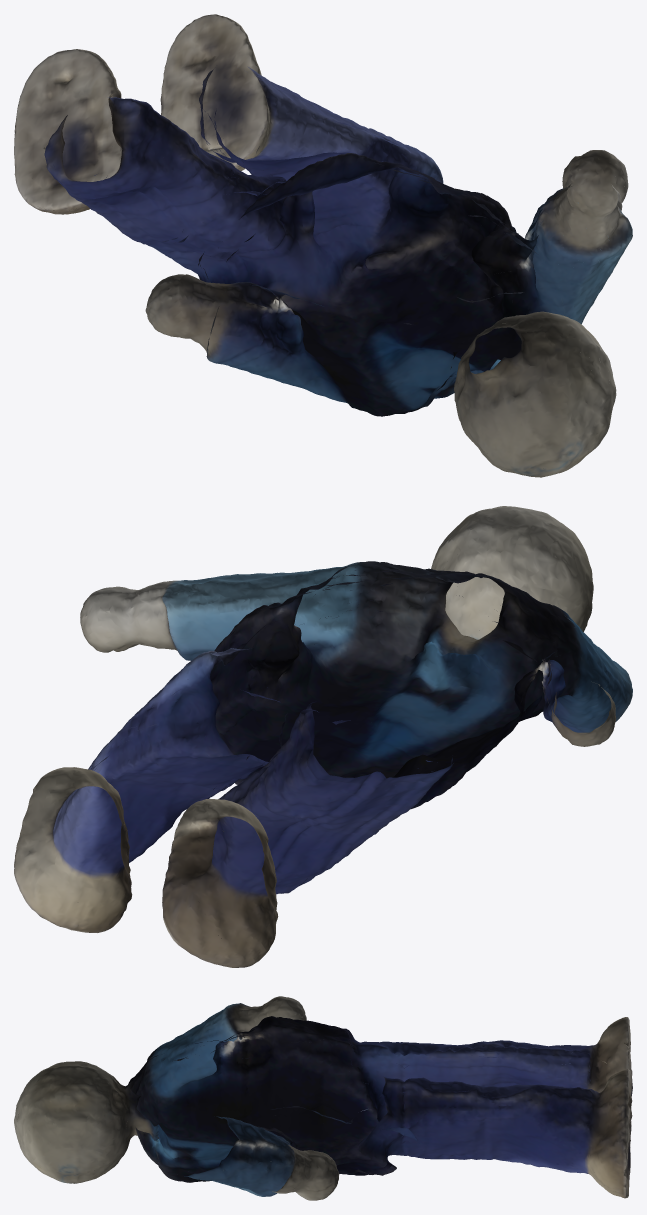
The model's file is grandfather.glb.
The picture shows the model from 3 angles, top to bottom: view 1: azimuth 30°, elevation 25°; view 2: azimuth 150°, elevation 25°; view 3: azimuth 270°, elevation 25°; orthographic projection. The views are drawn at different scales.
Size of the model in its own units: 0.6801 by 0.2388 by 1.
